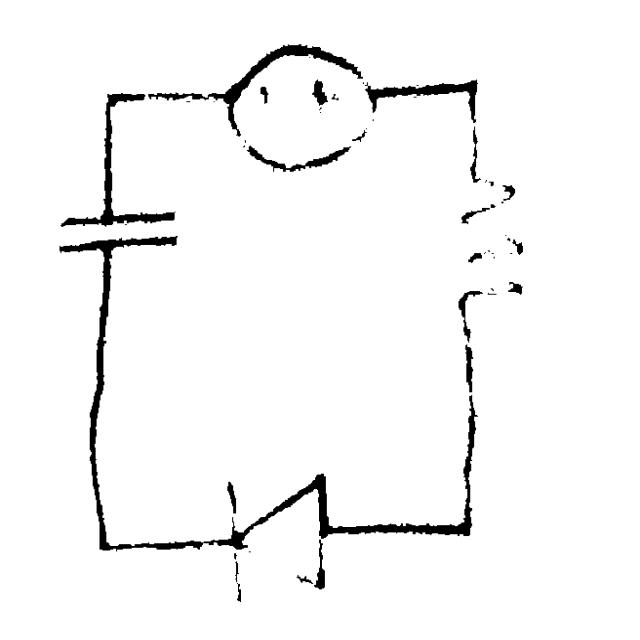capacitor: (50, 192, 200, 274)
dc: (215, 39, 386, 178)
diode: (198, 448, 344, 618)
resistor: (434, 164, 539, 323)
